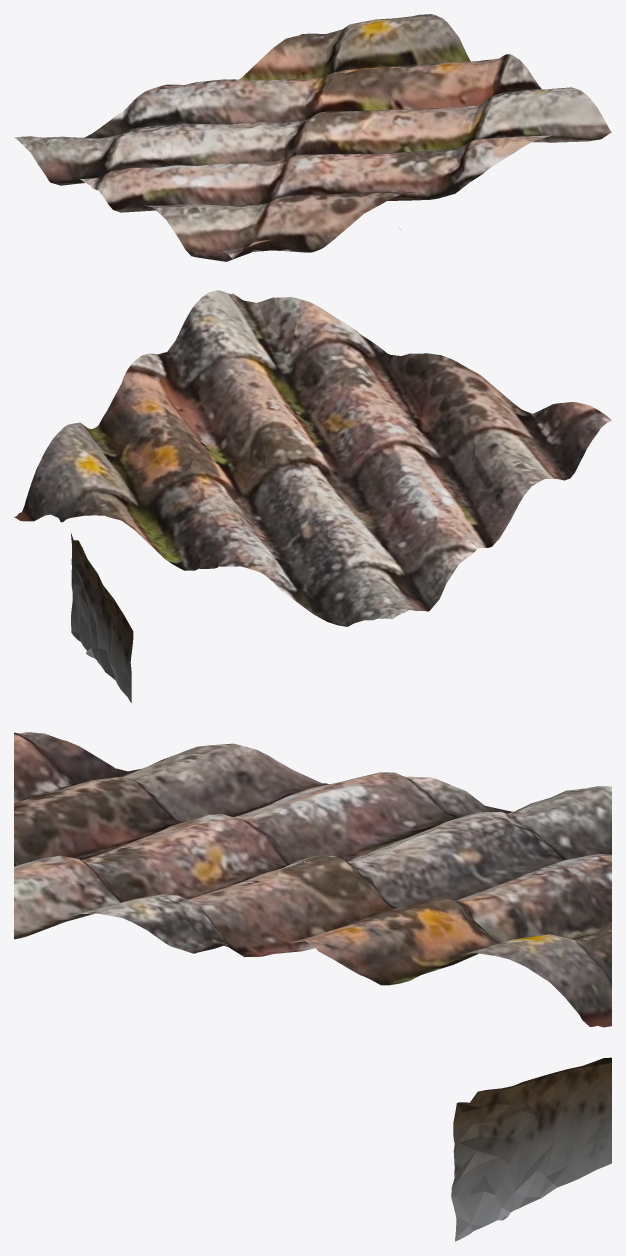
3 renders of one model, top to bottom at view 1: azimuth 30°, elevation 25°; view 2: azimuth 150°, elevation 25°; view 3: azimuth 270°, elevation 25°, orthographic. The views are drawn at different scales.
Bounding box in the file's own units: 0.8374 × 0.5071 × 0.8374.
3 materials, 3 textured.
